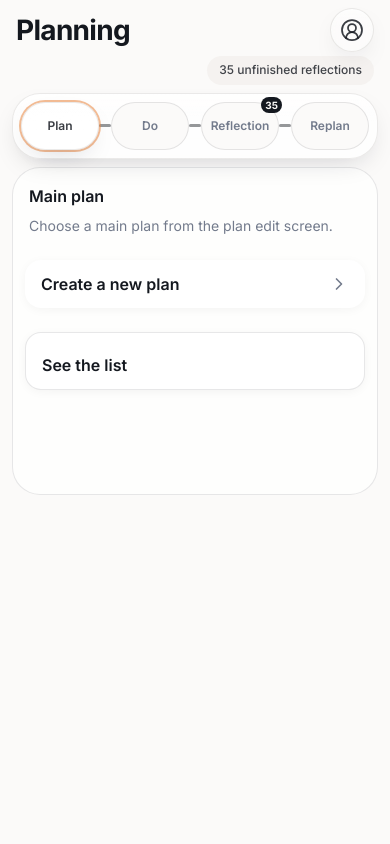
Test: Plan home › reuses the existing create sheet for a chosen level
The width and height of the screenshot is (390, 844).
Click the button with test id "plan-create": (110, 284) [25, 260, 365, 308]
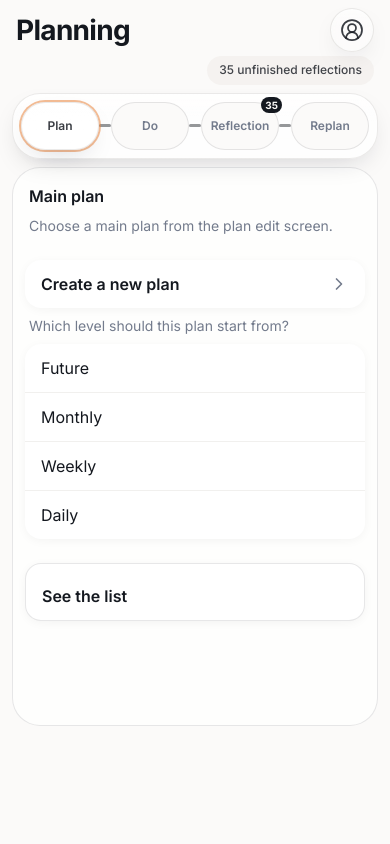
Click the button with test id "plan-create-daily": (60, 514) [25, 490, 365, 538]
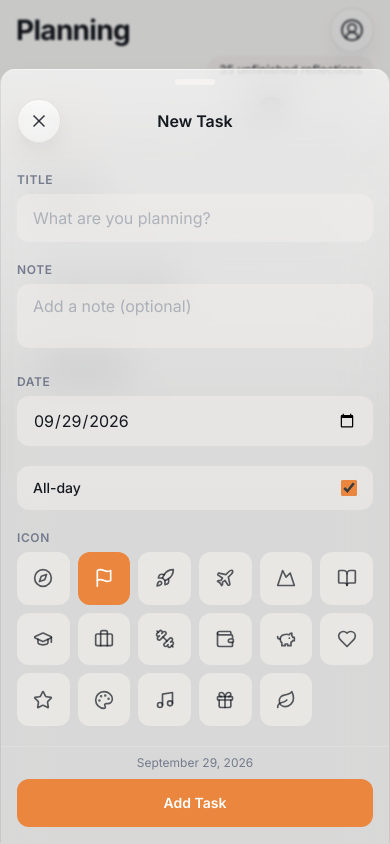
Now the heading "New Task" is shown, box [157, 110, 233, 130]
